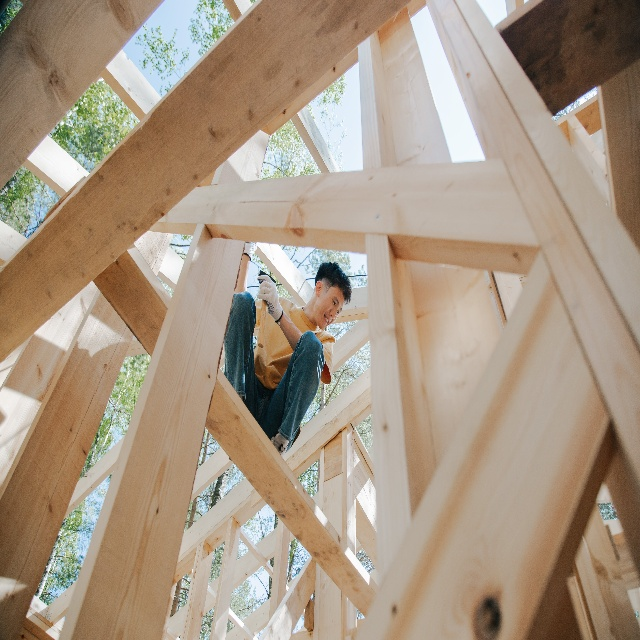Guantes: (256, 274, 284, 323), (243, 241, 258, 263)
